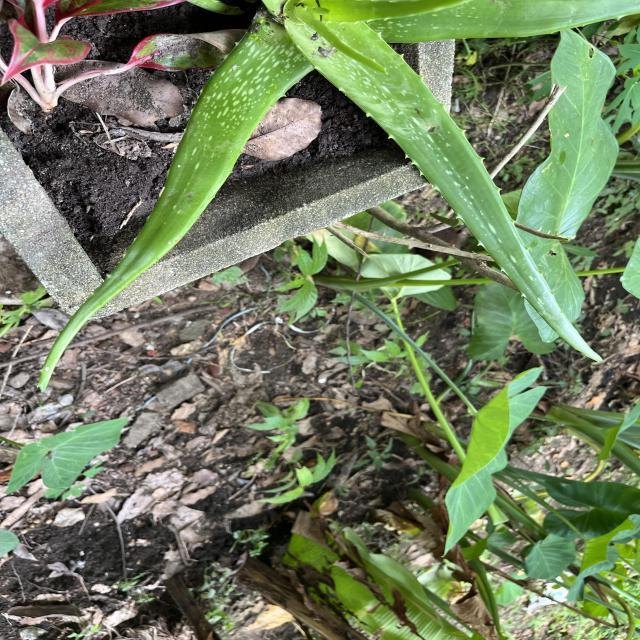Aloe vera: (276, 11, 608, 367), (29, 15, 328, 394)
